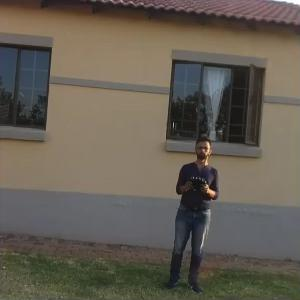follow: (159, 133, 218, 296)
